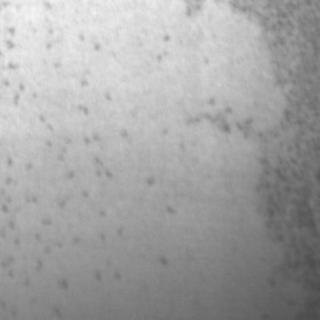pitted_surface: (3, 0, 131, 310), (214, 3, 318, 283)
